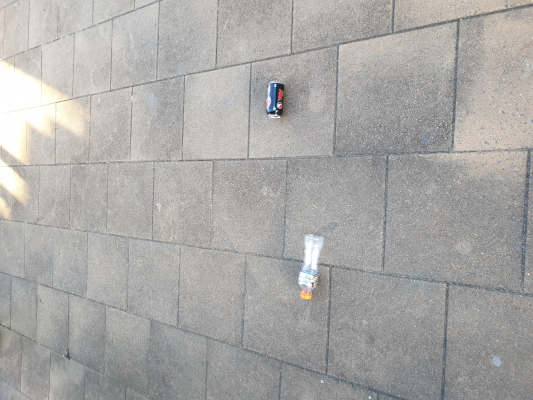Plastic Bottle: (298, 234, 324, 299), (265, 81, 284, 119)
